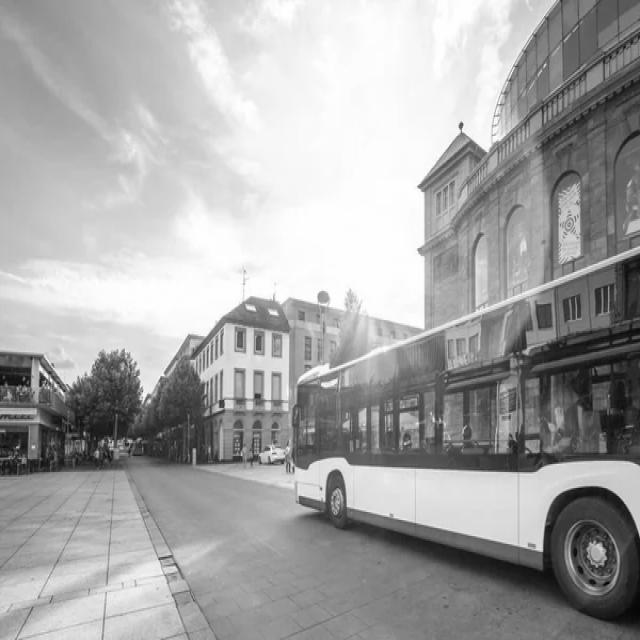Bus: (293, 246, 640, 620)
